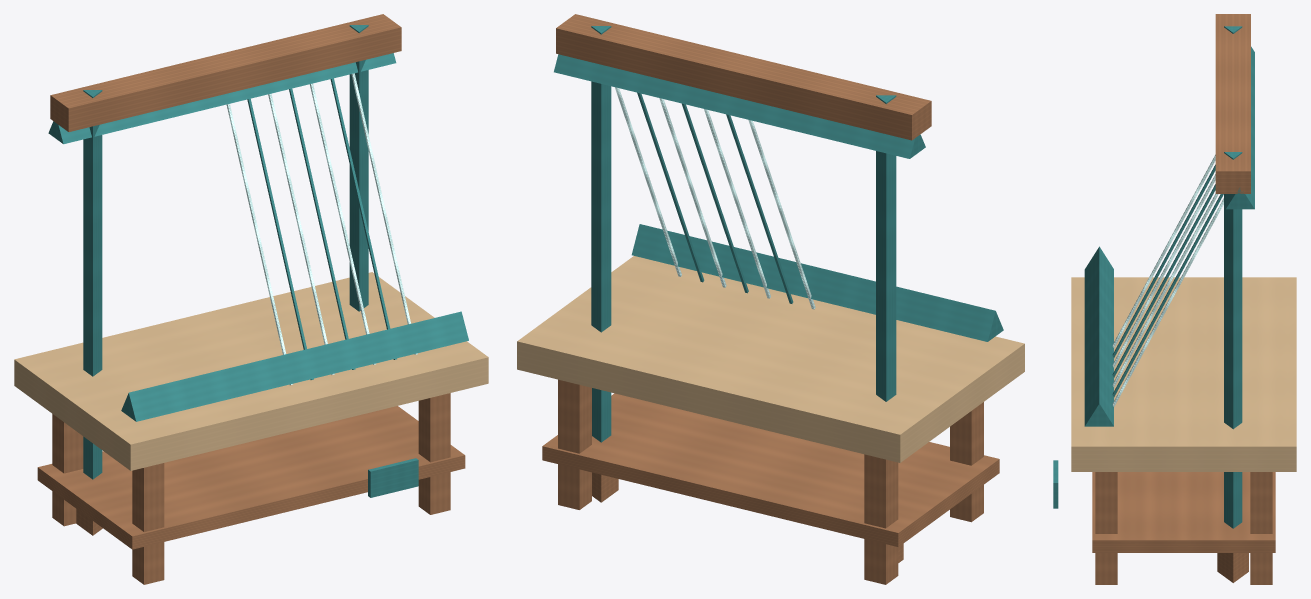
File: atlas100-s093-a02.lod2.glb
The picture shows the model from 3 angles, left to right: view 1: azimuth 30°, elevation 25°; view 2: azimuth 150°, elevation 25°; view 3: azimuth 270°, elevation 25°; orthographic projection. The views are drawn at different scales.
Visible parts, largest first — view 1: atlas100-s093-a02:part-004, atlas100-s093-a02:part-005, atlas100-s093-a02:part-010, atlas100-s093-a02:part-024, atlas100-s093-a02:part-006, atlas100-s093-a02:part-008, atlas100-s093-a02:part-025, atlas100-s093-a02:part-001, atlas100-s093-a02:part-003, atlas100-s093-a02:part-000, atlas100-s093-a02:part-026, atlas100-s093-a02:part-019 (+6 smaller); view 2: atlas100-s093-a02:part-004, atlas100-s093-a02:part-005, atlas100-s093-a02:part-010, atlas100-s093-a02:part-024, atlas100-s093-a02:part-025, atlas100-s093-a02:part-008, atlas100-s093-a02:part-006, atlas100-s093-a02:part-000, atlas100-s093-a02:part-002, atlas100-s093-a02:part-001, atlas100-s093-a02:part-019, atlas100-s093-a02:part-022 (+5 smaller); view 3: atlas100-s093-a02:part-004, atlas100-s093-a02:part-005, atlas100-s093-a02:part-010, atlas100-s093-a02:part-008, atlas100-s093-a02:part-024, atlas100-s093-a02:part-002, atlas100-s093-a02:part-003, atlas100-s093-a02:part-025, atlas100-s093-a02:part-023, atlas100-s093-a02:part-022, atlas100-s093-a02:part-009, atlas100-s093-a02:part-021 (+4 smaller).
Boxes of the visible parts, bbox=[...] form: atlas100-s093-a02:part-004: bbox=[14, 272, 488, 470]; atlas100-s093-a02:part-005: bbox=[37, 406, 465, 549]; atlas100-s093-a02:part-010: bbox=[50, 14, 401, 131]; atlas100-s093-a02:part-024: bbox=[121, 311, 468, 421]; atlas100-s093-a02:part-006: bbox=[83, 90, 102, 479]; atlas100-s093-a02:part-008: bbox=[349, 25, 368, 311]; atlas100-s093-a02:part-025: bbox=[48, 53, 396, 144]; atlas100-s093-a02:part-001: bbox=[132, 463, 164, 584]; atlas100-s093-a02:part-003: bbox=[418, 393, 450, 514]; atlas100-s093-a02:part-000: bbox=[52, 414, 83, 526]; atlas100-s093-a02:part-026: bbox=[368, 458, 418, 497]; atlas100-s093-a02:part-019: bbox=[268, 93, 334, 374]; atlas100-s093-a02:part-004: bbox=[517, 256, 1024, 462]; atlas100-s093-a02:part-005: bbox=[542, 393, 999, 547]; atlas100-s093-a02:part-010: bbox=[556, 14, 931, 140]; atlas100-s093-a02:part-024: bbox=[631, 224, 1003, 341]; atlas100-s093-a02:part-025: bbox=[554, 54, 925, 158]; atlas100-s093-a02:part-008: bbox=[591, 26, 611, 442]; atlas100-s093-a02:part-006: bbox=[876, 95, 896, 401]; atlas100-s093-a02:part-000: bbox=[864, 454, 898, 584]; atlas100-s093-a02:part-002: bbox=[558, 379, 591, 509]; atlas100-s093-a02:part-001: bbox=[950, 402, 983, 522]; atlas100-s093-a02:part-019: bbox=[704, 109, 770, 298]; atlas100-s093-a02:part-022: bbox=[637, 92, 704, 282]; atlas100-s093-a02:part-004: bbox=[1071, 277, 1296, 471]; atlas100-s093-a02:part-005: bbox=[1092, 472, 1275, 552]; atlas100-s093-a02:part-010: bbox=[1215, 14, 1250, 193]; atlas100-s093-a02:part-008: bbox=[1224, 152, 1242, 528]; atlas100-s093-a02:part-024: bbox=[1084, 246, 1113, 426]; atlas100-s093-a02:part-002: bbox=[1250, 472, 1272, 584]; atlas100-s093-a02:part-003: bbox=[1095, 472, 1117, 584]; atlas100-s093-a02:part-025: bbox=[1225, 46, 1254, 209]; atlas100-s093-a02:part-023: bbox=[1112, 198, 1223, 406]; atlas100-s093-a02:part-022: bbox=[1112, 194, 1223, 397]; atlas100-s093-a02:part-009: bbox=[1217, 553, 1248, 582]; atlas100-s093-a02:part-021: bbox=[1112, 194, 1218, 387].
Size of the model in its own units: 2.84 by 3.3 by 1.73.
Materials: 4 (4 with a texture image).
